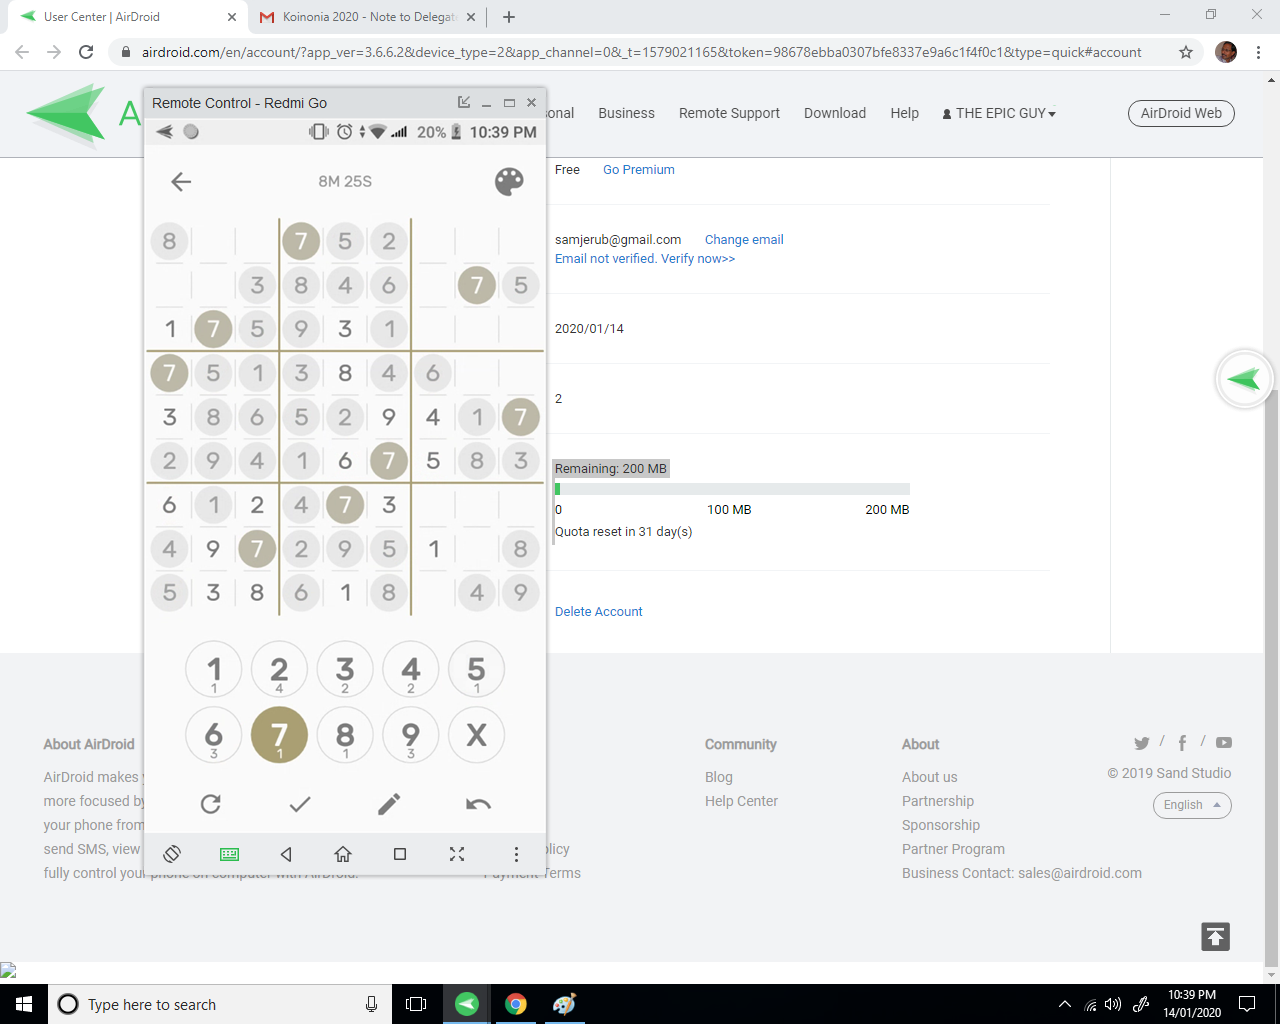1N: (366, 306, 413, 351), (280, 439, 321, 481), (241, 349, 279, 394), (459, 394, 496, 438)
7A: (246, 702, 313, 768), (144, 349, 193, 393), (280, 222, 323, 262), (501, 394, 539, 438)
box: (141, 116, 548, 831)
